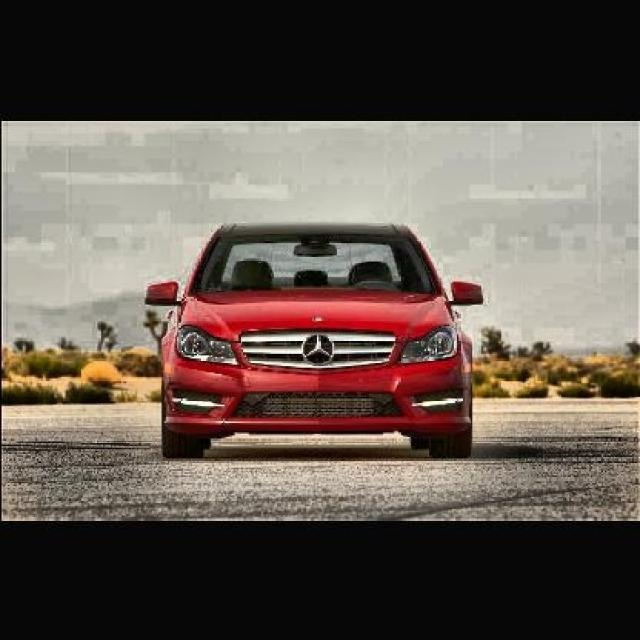maroon: (147, 216, 486, 456)
